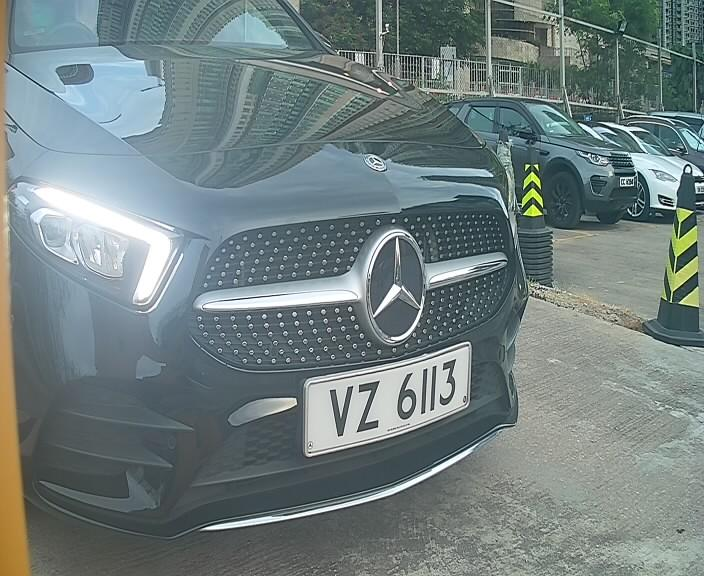License Plate: (302, 348, 472, 456)
